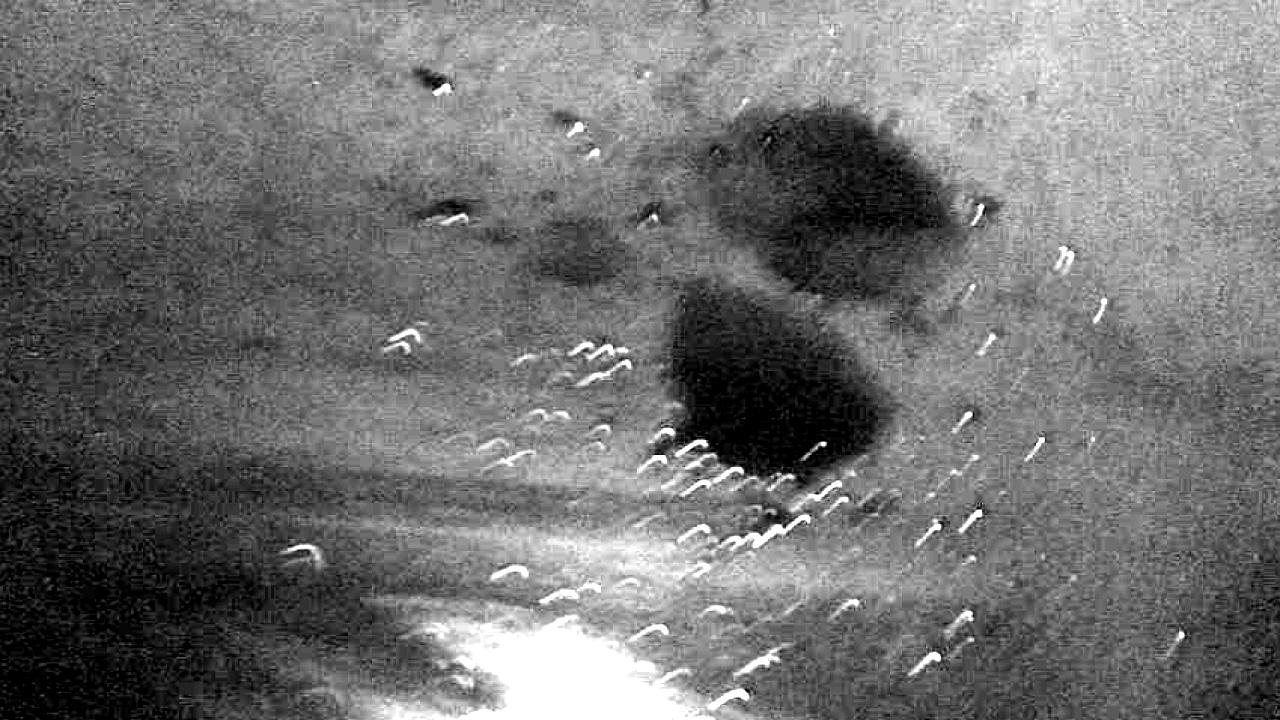drinks Stains: (662, 92, 969, 539), (517, 193, 640, 313)
